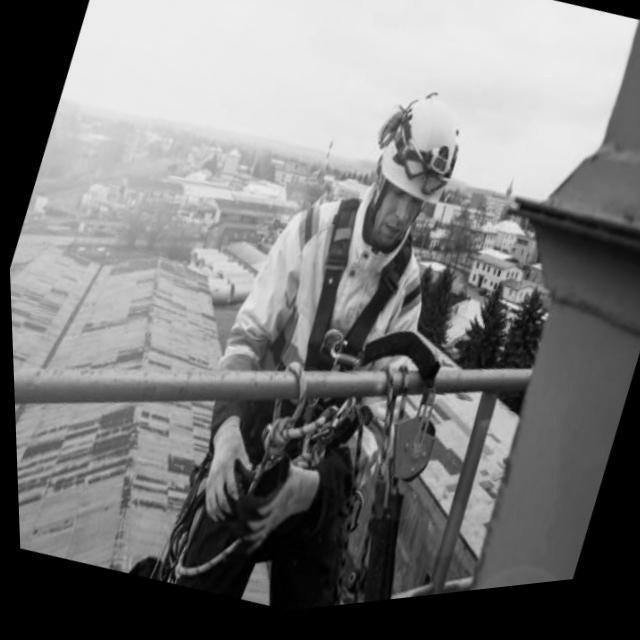safety belt: (250, 212, 414, 553)
